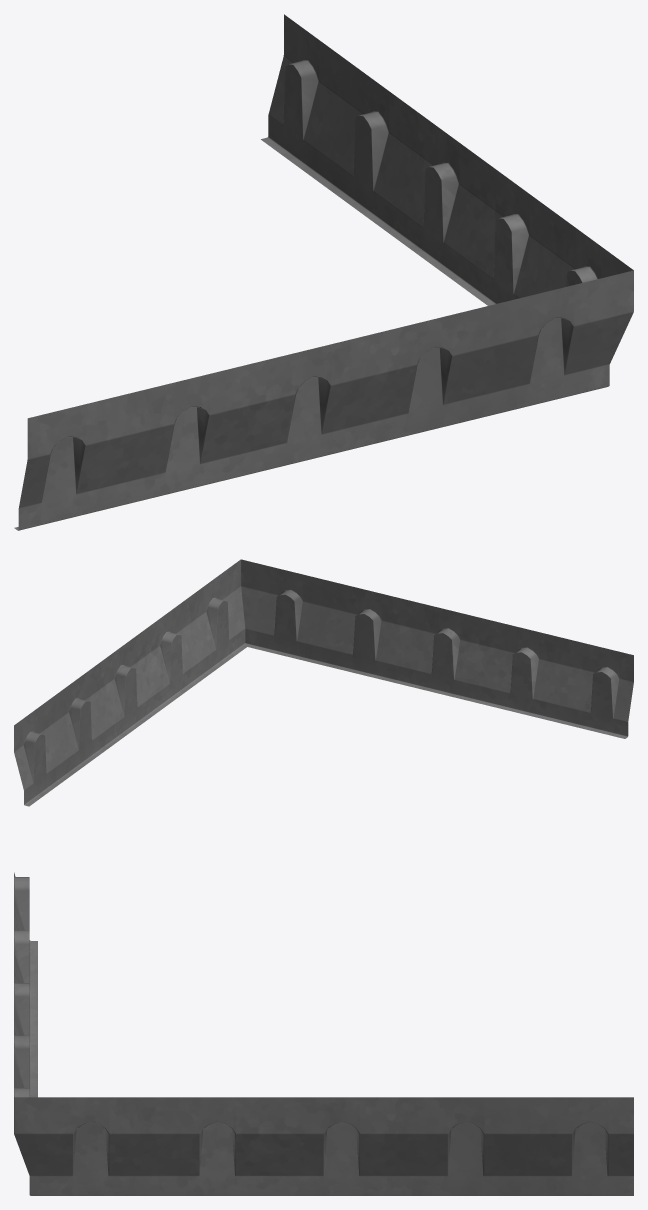
File: TrimV3_OutsideCorner.fbx
The picture shows the model from 3 angles, top to bottom: view 1: azimuth 30°, elevation 25°; view 2: azimuth 150°, elevation 25°; view 3: azimuth 270°, elevation 25°; orthographic projection. The views are drawn at different scales.
Parts seen in each view (by area): view 1: TrimV3_OutsideCorner; view 2: TrimV3_OutsideCorner; view 3: TrimV3_OutsideCorner.
Boxes of the visible parts, bbox=[...] form: TrimV3_OutsideCorner: bbox=[14, 14, 633, 530]; TrimV3_OutsideCorner: bbox=[14, 559, 633, 806]; TrimV3_OutsideCorner: bbox=[14, 872, 633, 1195].
Size of the model in its own units: 531 by 99.88 by 531.
Materials: 1 (1 with a texture image).
